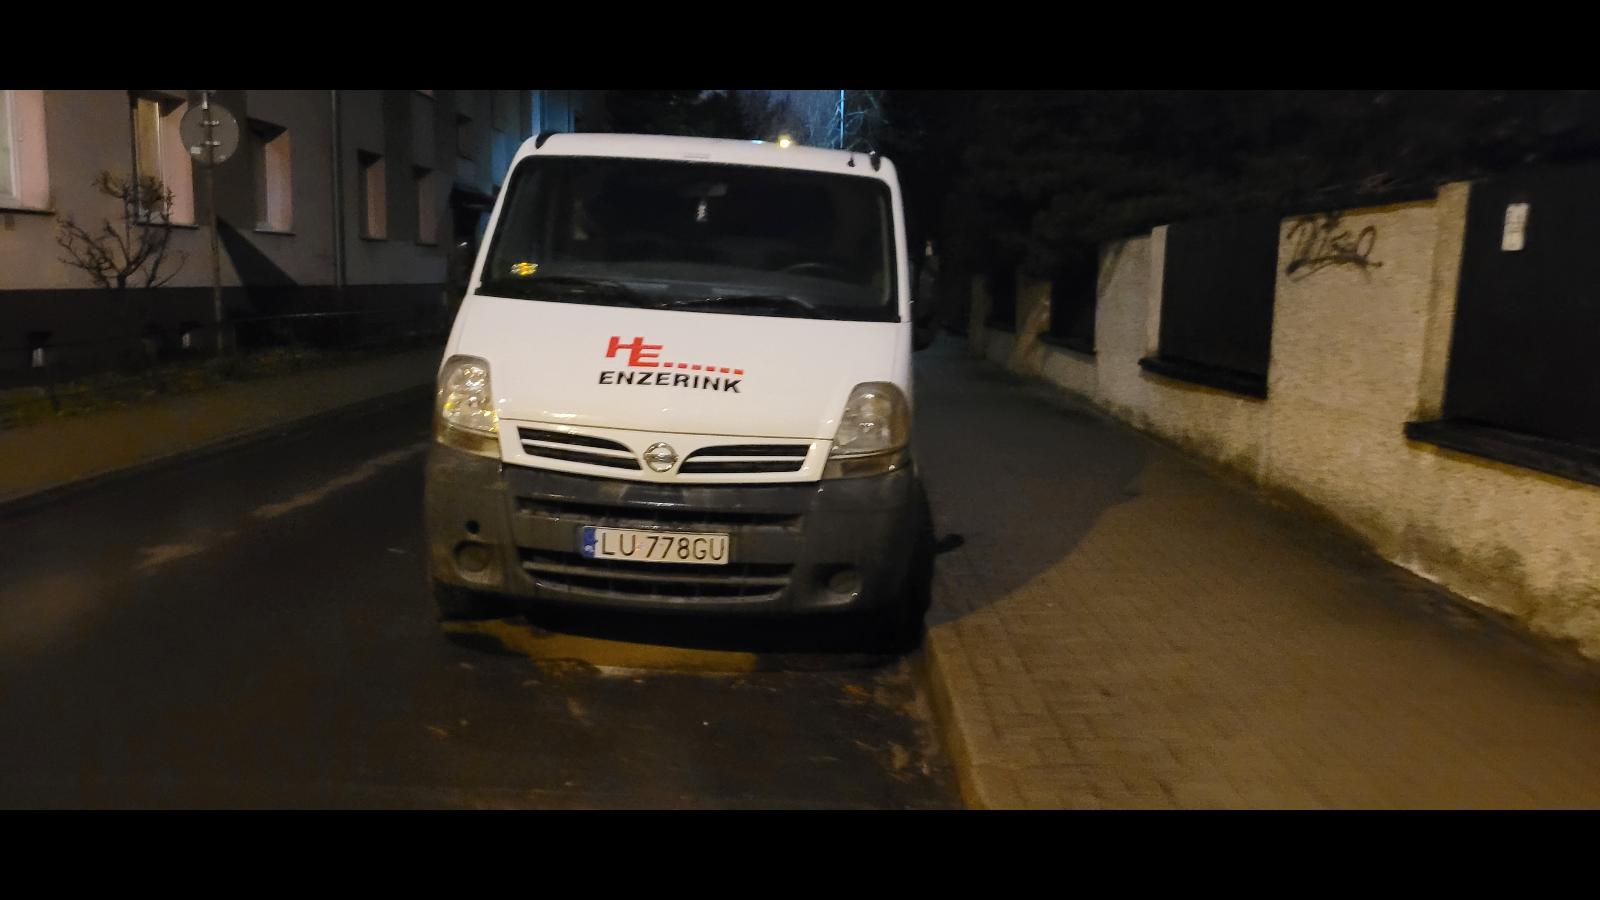plates: (582, 526, 730, 566)
